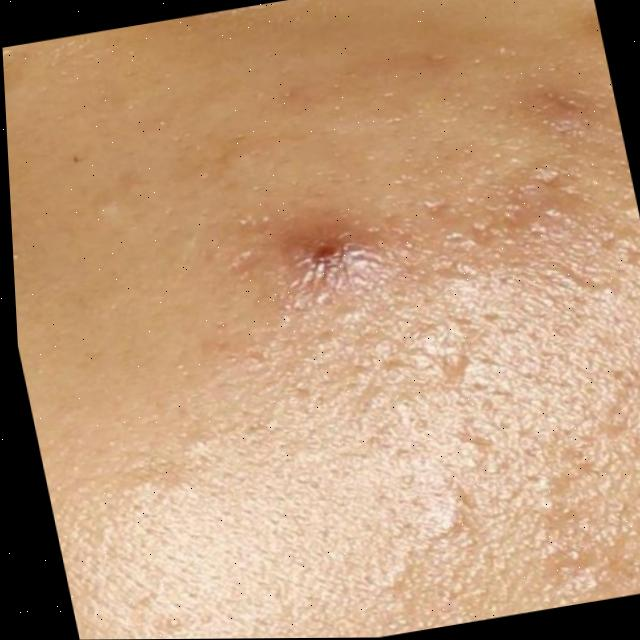Acne: (276, 228, 357, 289)
